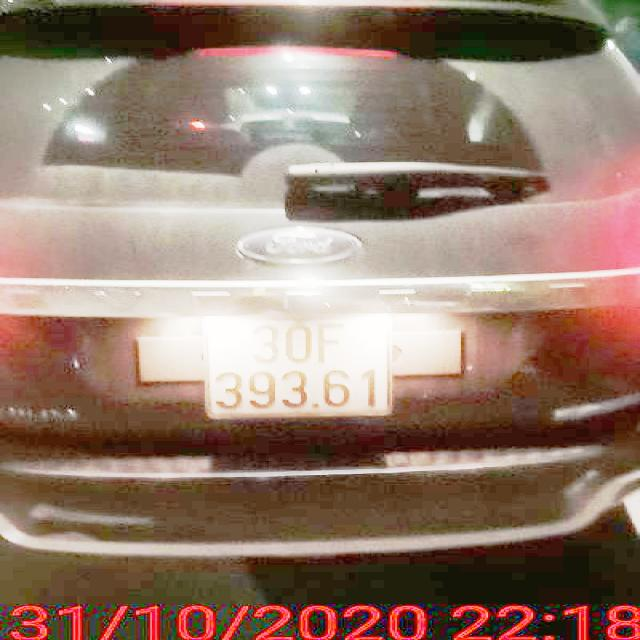license_plate: (207, 316, 393, 417)
